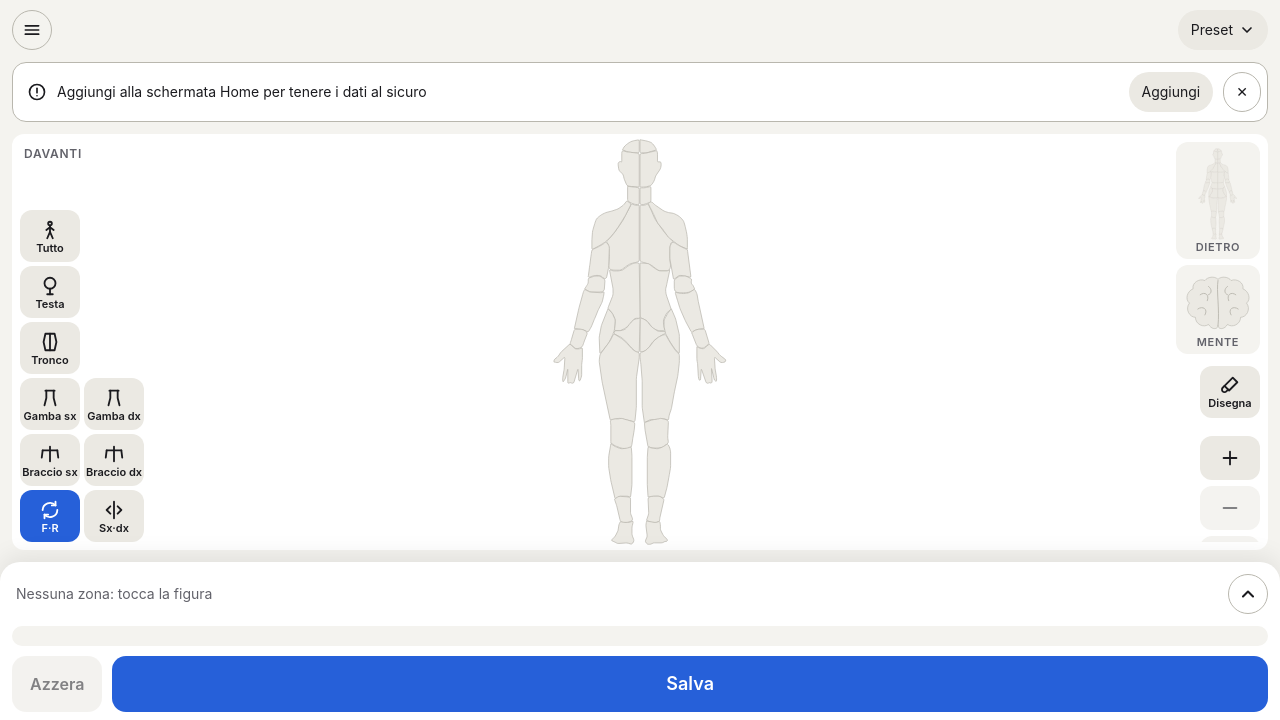
Test: Trends summary › says so when the range is empty, with the 30-day range selected
The image size is (1280, 720).
Click the button named "Menu": (32, 30) [12,10,52,50]
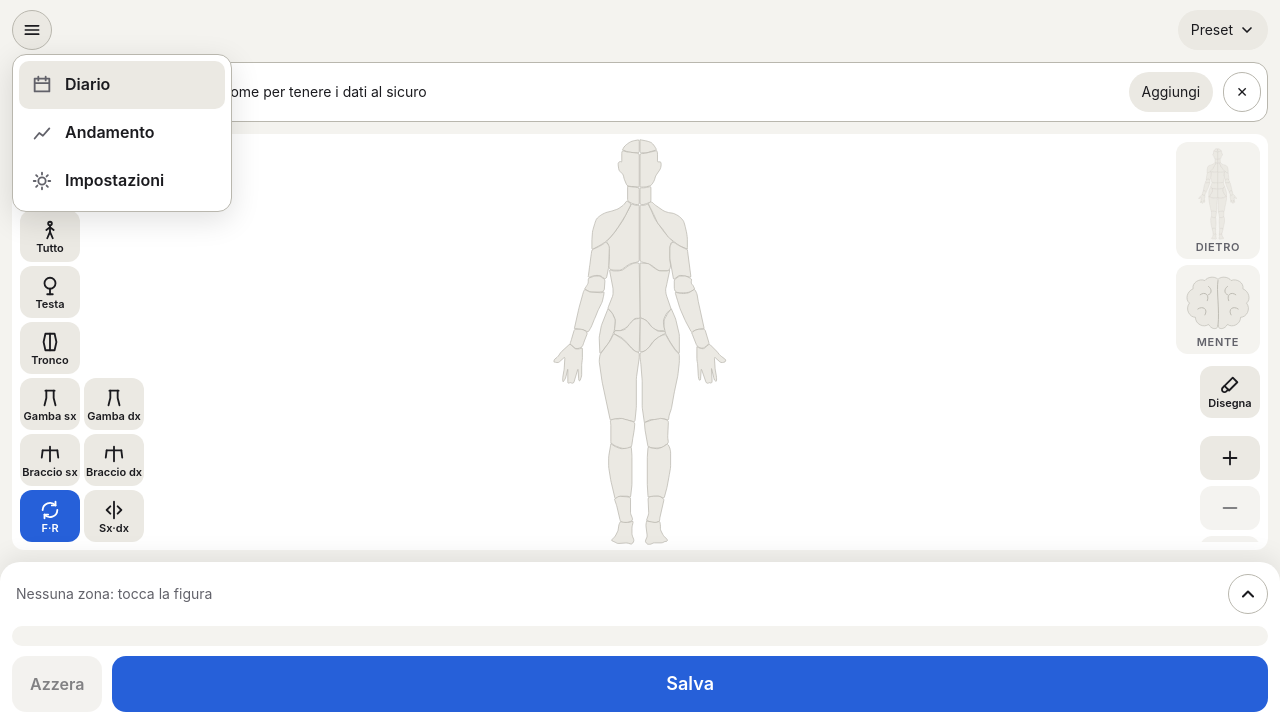
Click the menu item "Andamento": (122, 133) [19,109,225,157]
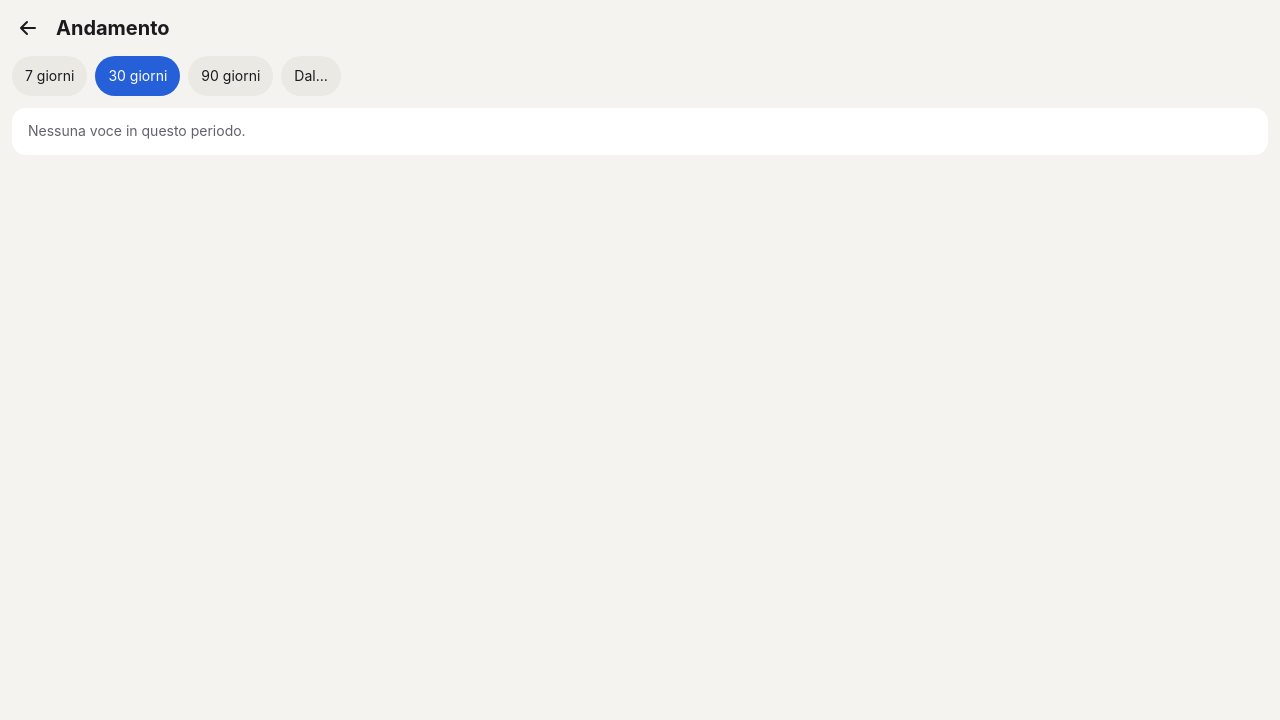
Expected: the text "Nessuna voce in questo periodo." is shown, [12,108,1268,155]
